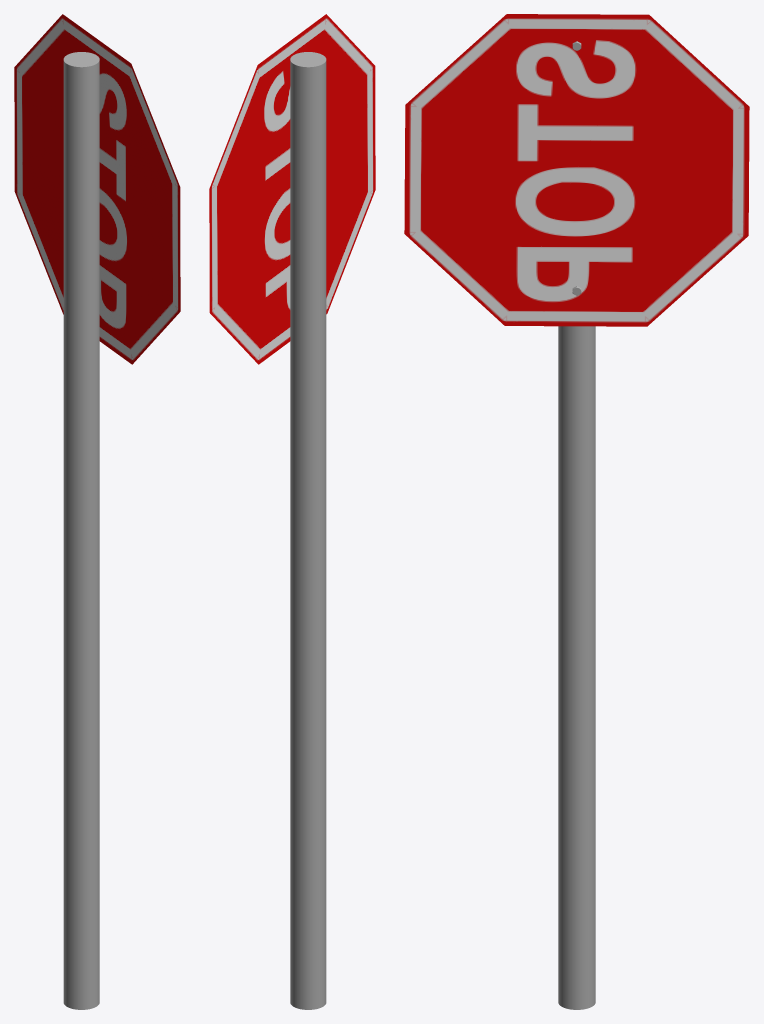
Rendered from stopsign2.glb.
3 renders of one model, left to right at view 1: azimuth 30°, elevation 25°; view 2: azimuth 150°, elevation 25°; view 3: azimuth 270°, elevation 25°, orthographic. The views are drawn at different scales.
Visible parts, largest first — view 1: Cylinder, Cylinder.002; view 2: Cylinder, Cylinder.002; view 3: Cylinder.002, Cylinder.
Part boxes in pixels (left/top/right/bottom): Cylinder: left=63, top=52, right=99, bottom=1009; Cylinder.002: left=14, top=14, right=180, bottom=364; Cylinder: left=290, top=52, right=326, bottom=1009; Cylinder.002: left=209, top=14, right=375, bottom=364; Cylinder.002: left=404, top=14, right=749, bottom=326; Cylinder: left=558, top=326, right=595, bottom=1009.
Size of the model in its own units: 0.2202 by 5.9 by 1.85.
2 materials, 1 textured.
